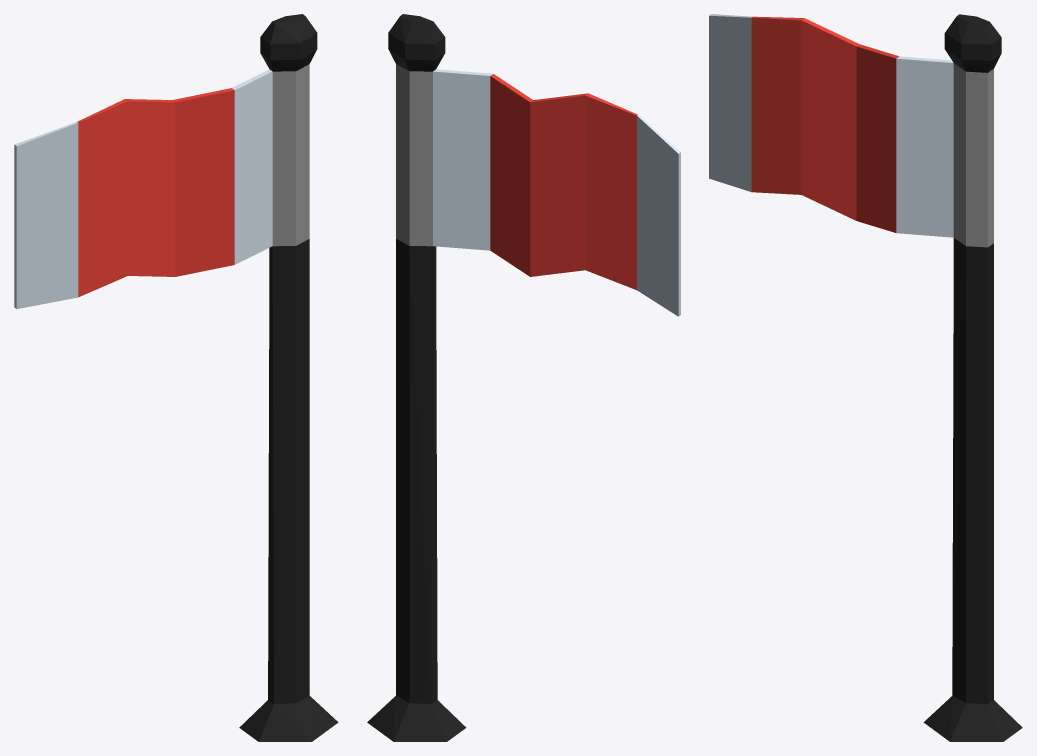
Rendered from flag.obj.
3 renders of one model, left to right at view 1: azimuth 30°, elevation 25°; view 2: azimuth 150°, elevation 25°; view 3: azimuth 330°, elevation 25°, orthographic.
Visible parts, largest first — view 1: Cube_Cube.001; view 2: Cube_Cube.001; view 3: Cube_Cube.001.
Part boxes in pixels (left/top/right/bottom): Cube_Cube.001: left=14, top=14, right=338, bottom=741; Cube_Cube.001: left=367, top=14, right=680, bottom=741; Cube_Cube.001: left=709, top=14, right=1022, bottom=741.
Bounding box in the file's own units: 1.37 × 2.99 × 0.3551.
